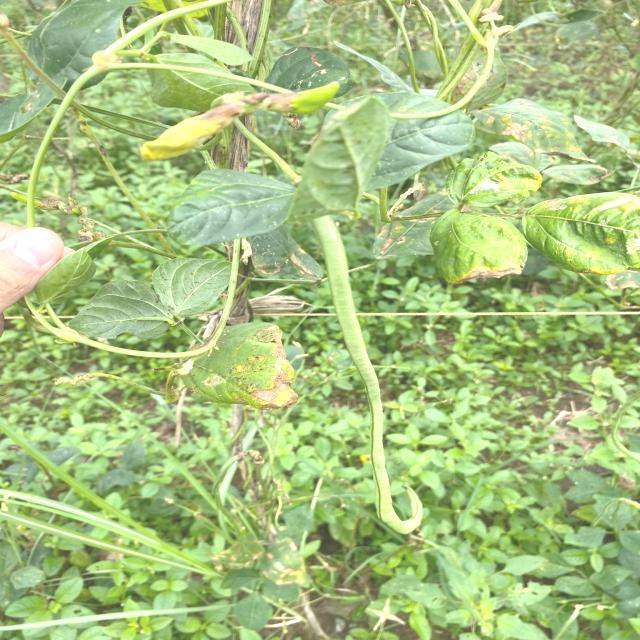10: (312, 216, 422, 534)
leaf-moderate: (176, 322, 298, 409), (446, 151, 542, 207)
sitaw-aphid-high: (70, 258, 230, 339), (169, 170, 295, 244), (430, 210, 527, 282)
sitaw-aphid-low: (522, 192, 640, 275), (475, 99, 595, 163)
